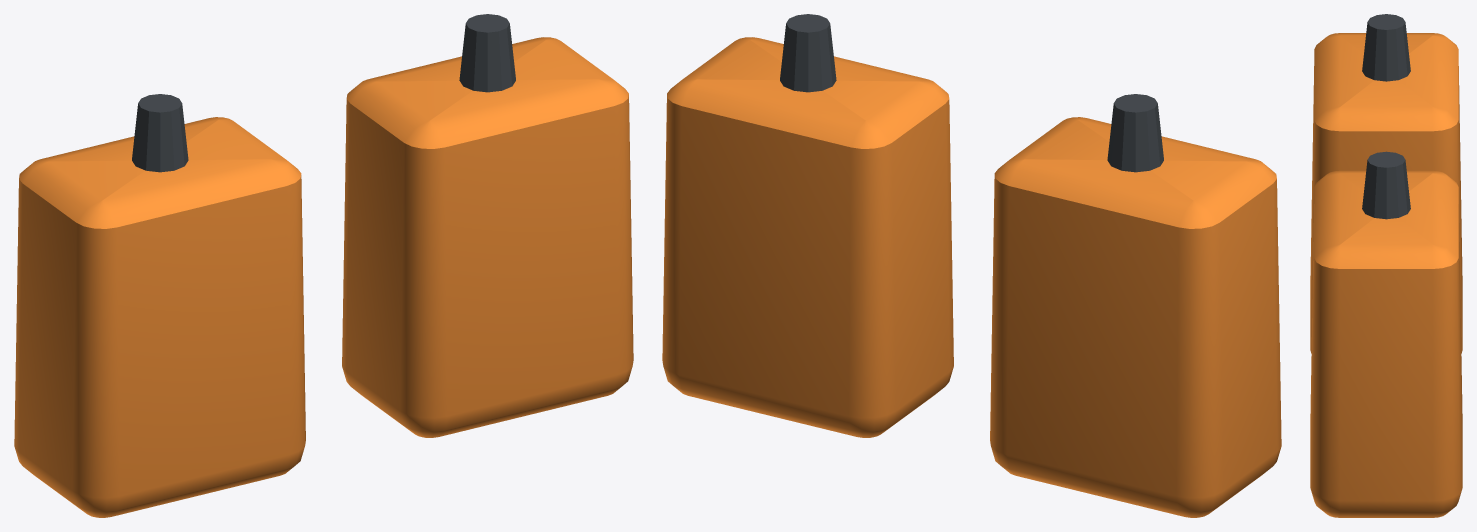
The model's file is stock-car-oval-speedway-fuel-can-pair-28dcdc2b__16944.glb.
3 renders of one model, left to right at view 1: azimuth 30°, elevation 25°; view 2: azimuth 150°, elevation 25°; view 3: azimuth 270°, elevation 25°, orthographic. The views are drawn at different scales.
Visible parts, largest first — view 1: fuel-can-pair; view 2: fuel-can-pair; view 3: fuel-can-pair.
Boxes of the visible parts, box(x1,y1,x2,y2) form: fuel-can-pair: box(14, 14, 633, 517); fuel-can-pair: box(662, 14, 1281, 517); fuel-can-pair: box(1310, 14, 1462, 517).
Size of the model in its own units: 1.02 by 0.65 by 0.2801.
